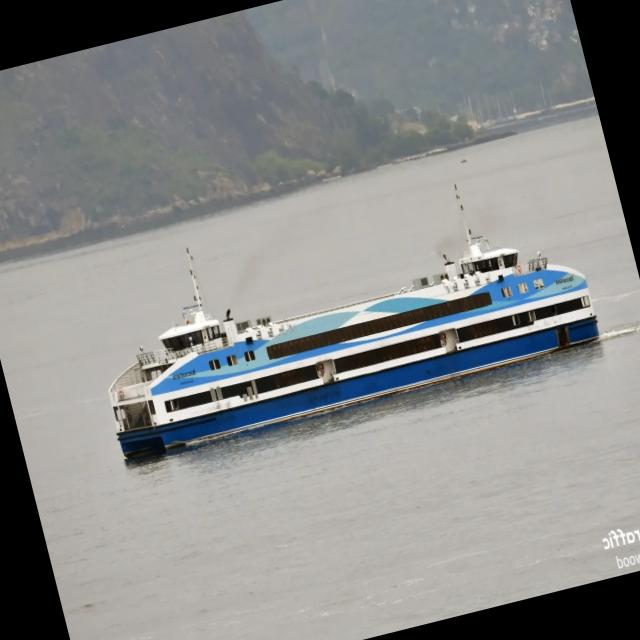Passenger: (109, 204, 599, 458)
